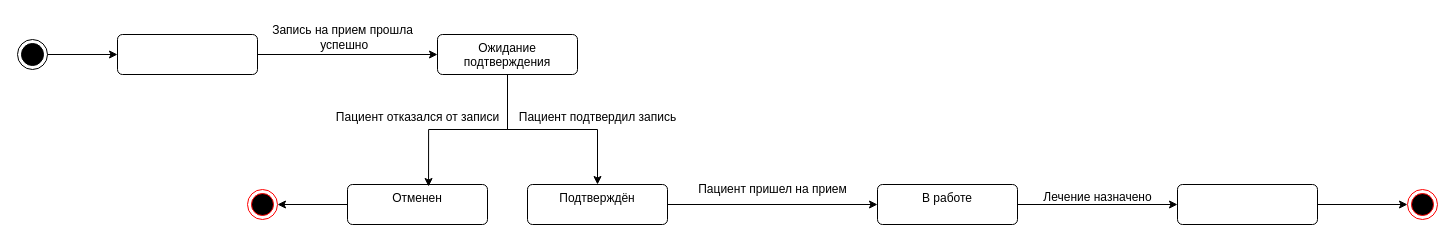
Some shapes in this 1455 by 242 pixel diagram are drawn without their labels. Each missing label, with the centre of its shape:
"Cоздан" belongs at pixel 187 54.
"Завершен" belongs at pixel 1247 204.
